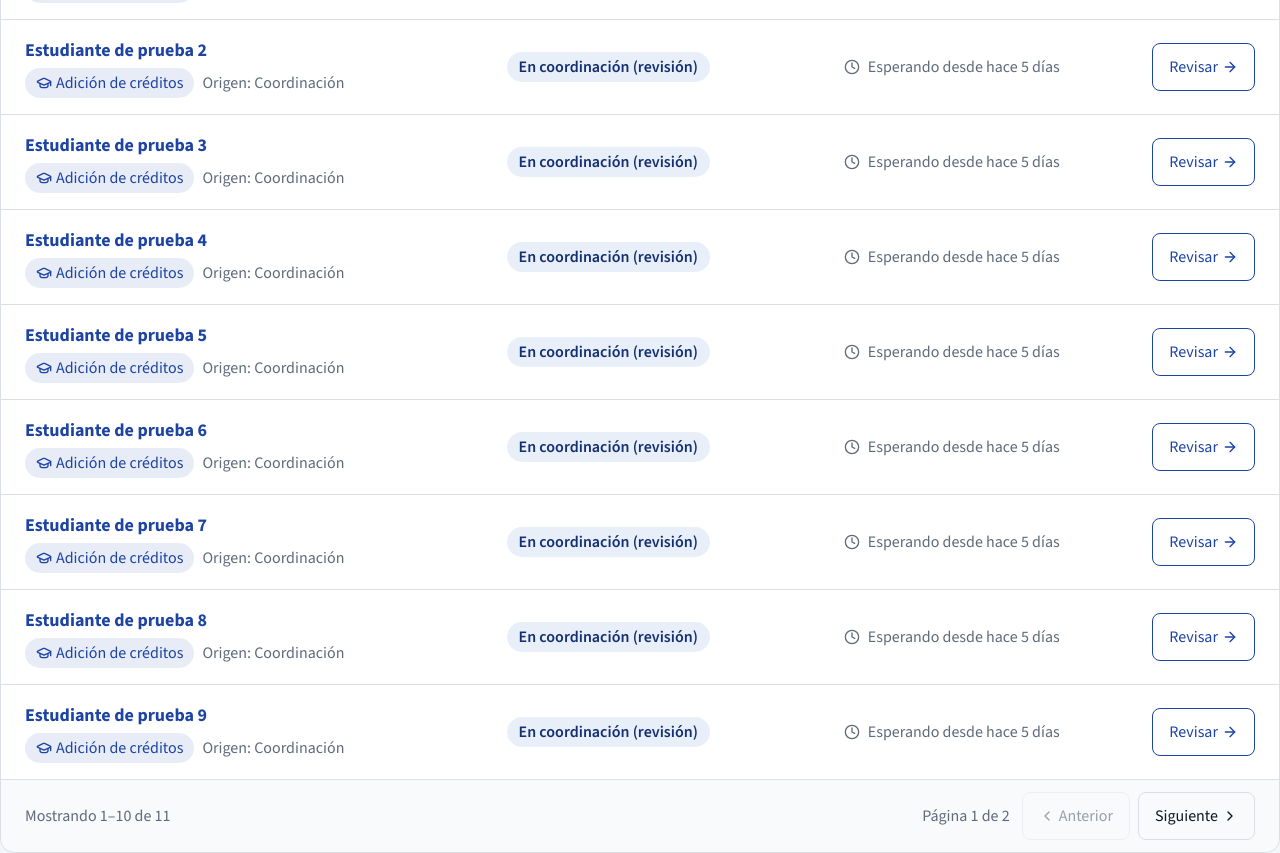
Test: CoordinationInbox › paginación de vista › al hacer clic en «Siguiente» aparece la 11.ª entrada y desaparece la primera
(page scrolled)
Step 1. Click the button "Siguiente" → (1196, 816), box [1138,792,1255,840]
(page scrolled)
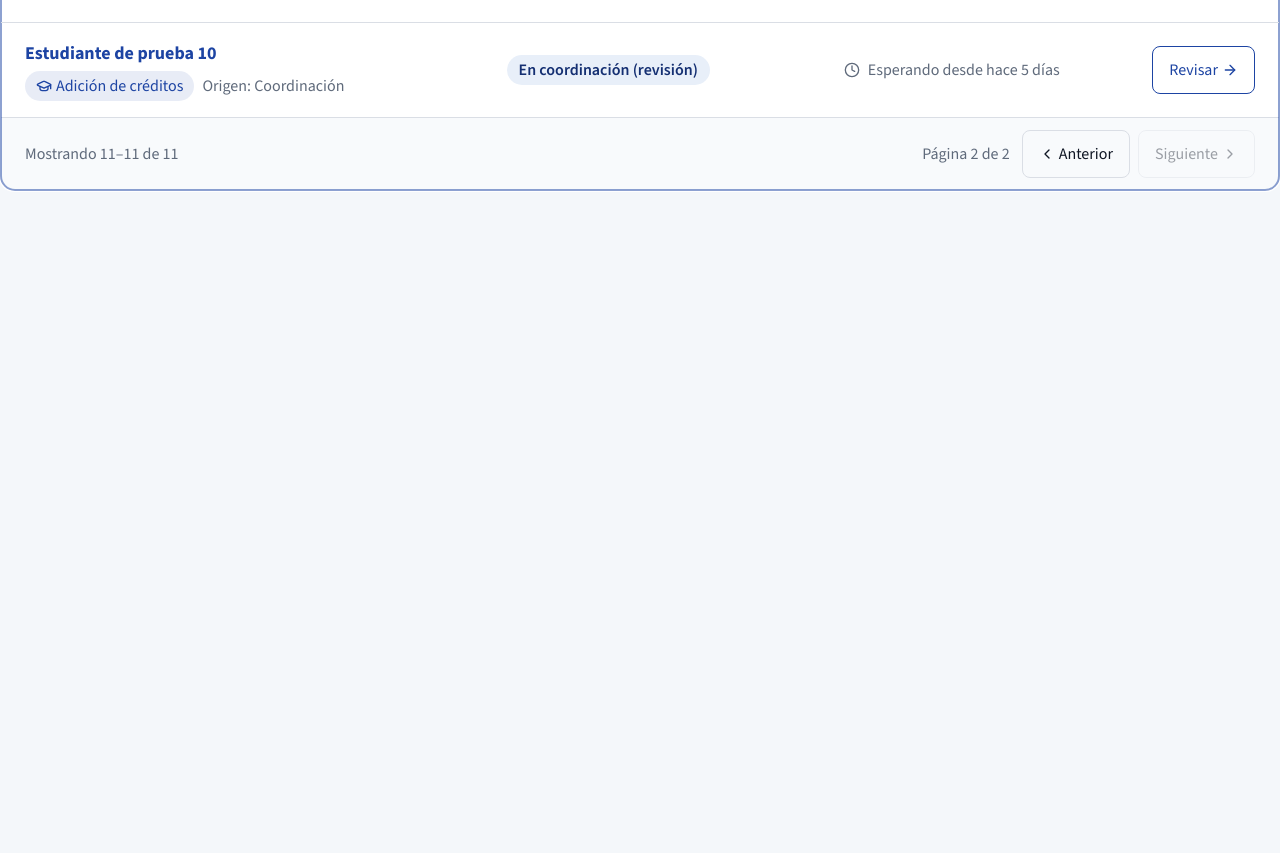
Check: the text "Estudiante de prueba 10" is shown, box [25,41,217,65]
